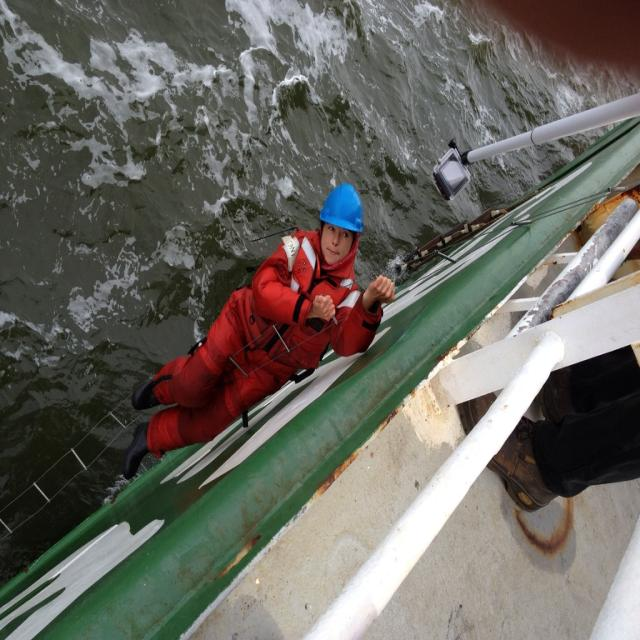Boat: (0, 92, 640, 639)
